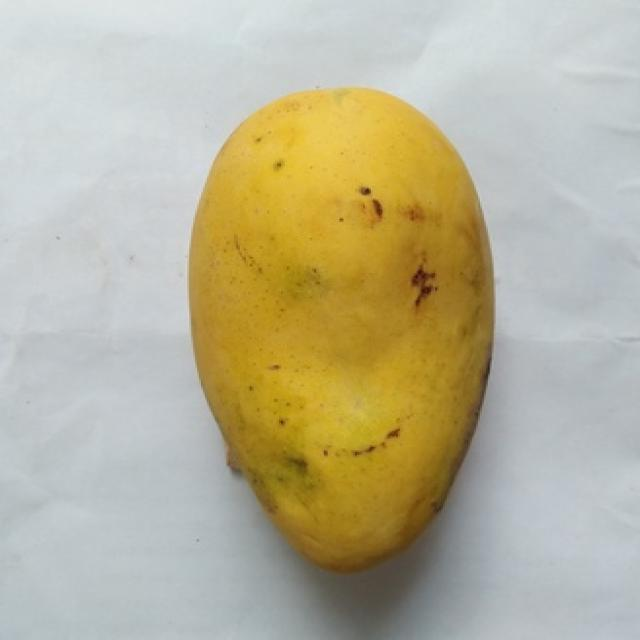Mango: (191, 88, 492, 570)
